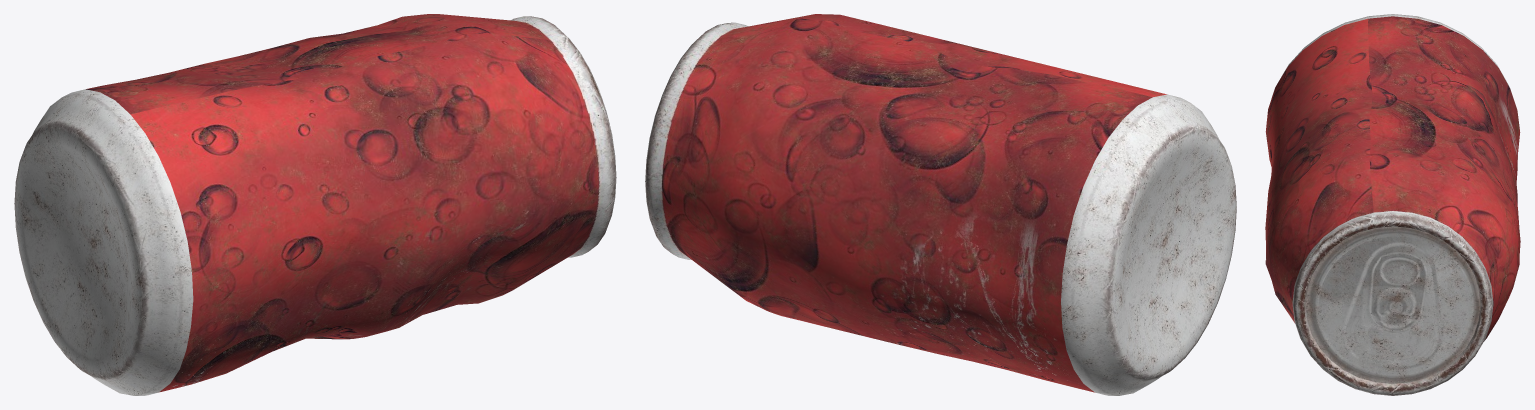
File: wasteland_explorer_-_soft_drink_can.glb
3 renders of one model, left to right at view 1: azimuth 30°, elevation 25°; view 2: azimuth 150°, elevation 25°; view 3: azimuth 270°, elevation 25°, orthographic. The views are drawn at different scales.
Parts seen in each view (by area): view 1: g; view 2: g; view 3: g.
Part boxes in pixels (x1=…): g: x1=14, y1=14, x2=616, y2=395; g: x1=645, y1=14, x2=1236, y2=395; g: x1=1265, y1=14, x2=1520, y2=395.
Bounding box in the file's own units: 2.14 × 1.21 × 1.21.
Materials: 1 (1 with a texture image).
